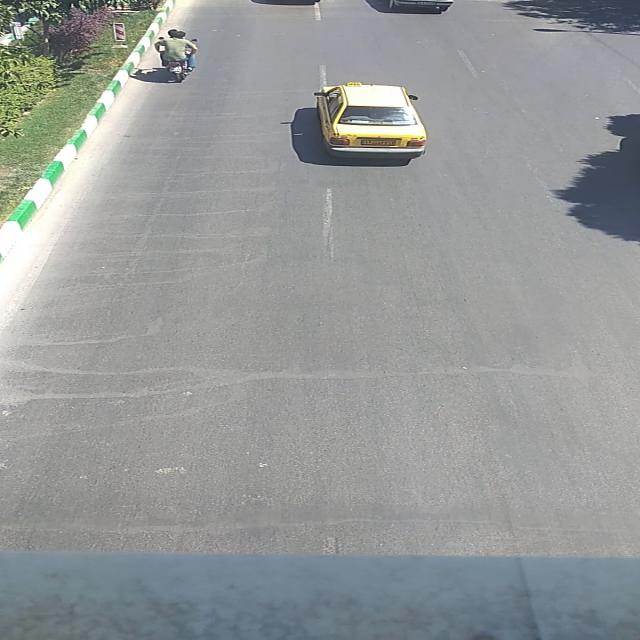car: (313, 84, 428, 160)
motorbike: (155, 28, 207, 82)
